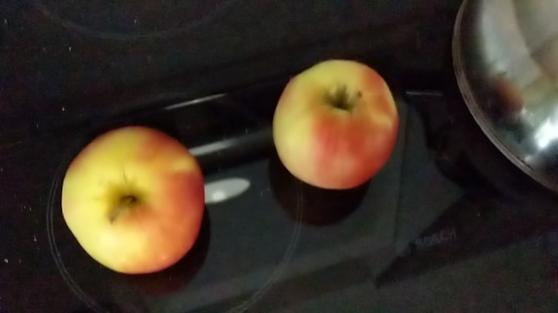apple: (59, 121, 206, 275), (271, 58, 401, 191)
